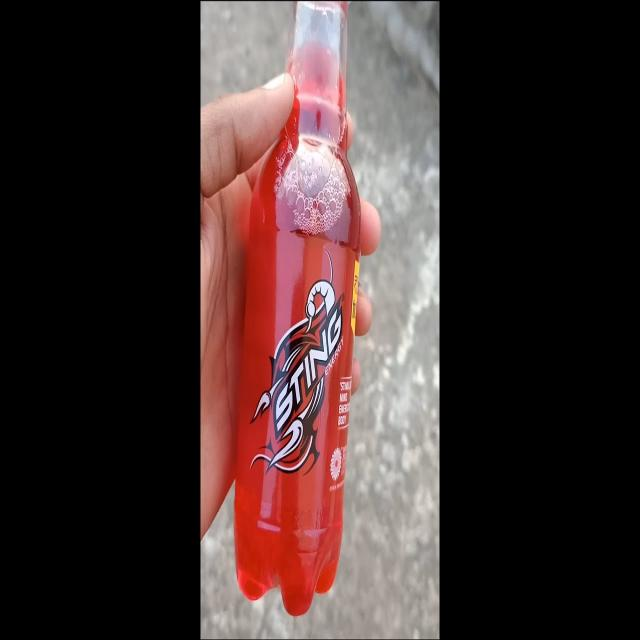Soda: (236, 46, 381, 620)
